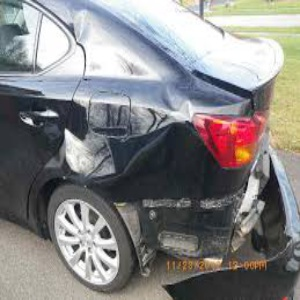bumper: (143, 180, 230, 256)
